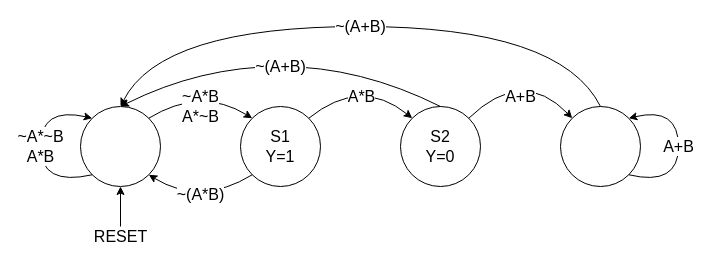
Image size: 711x264. Some labels were removed from this diagram. Each missing label, with the box of its shape:
S0 Y=1: (80, 106, 160, 186)
S3 Y=0: (560, 106, 640, 186)
